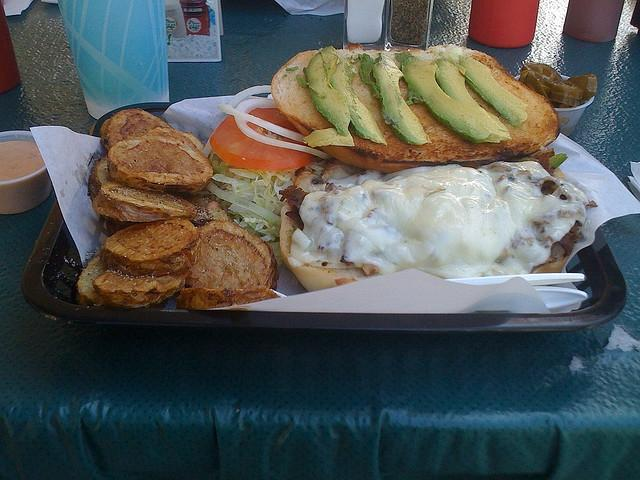avocado: (394, 51, 495, 144), (358, 53, 432, 145), (434, 59, 512, 142), (329, 52, 388, 146), (456, 55, 528, 127), (303, 46, 351, 136), (303, 127, 356, 147)
onion: (234, 98, 332, 161), (216, 103, 304, 142), (206, 181, 281, 225)
potato: (110, 126, 213, 193), (185, 220, 278, 290), (100, 215, 199, 276), (92, 182, 196, 223), (92, 269, 193, 308), (100, 108, 174, 155), (177, 284, 280, 310), (181, 194, 237, 226), (88, 154, 121, 202), (76, 254, 106, 306)
tomato: (210, 116, 313, 170)
